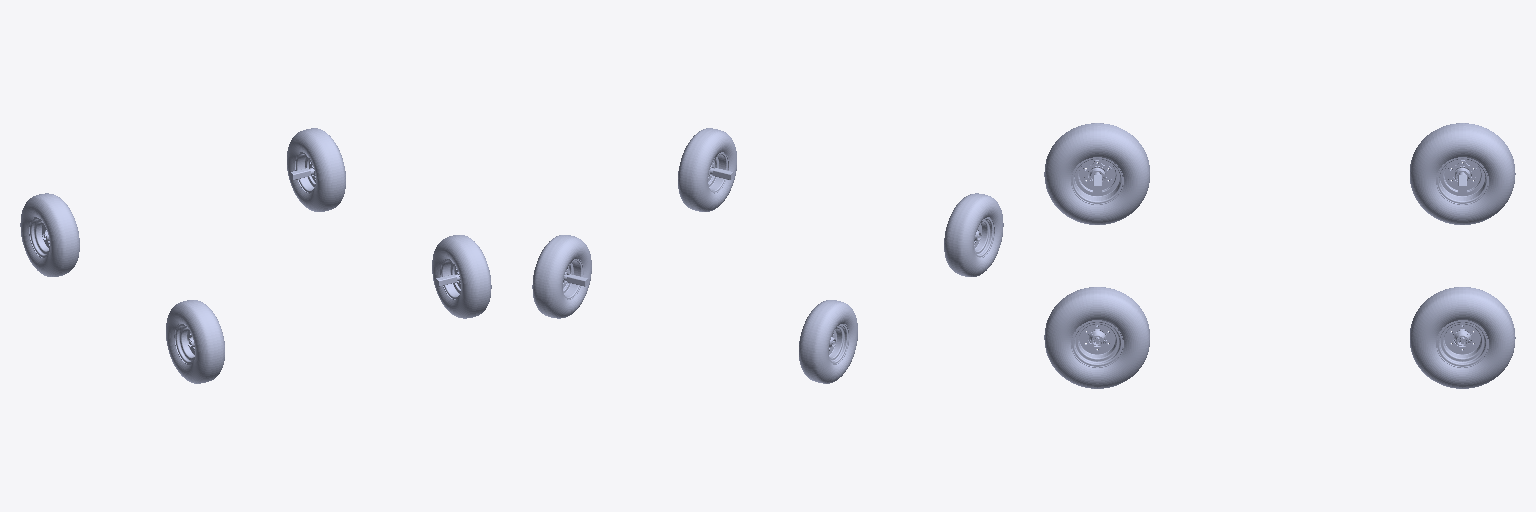
robot.urdf — corn_harvester:
<?xml version="1.0" encoding="utf-8"?>
<robot
  name="corn_harvester">

  <link name="base_footprint">
    <visual>
      <geometry>
          <sphere radius="0.001"/>
      </geometry>
    </visual>
  </link>

  <link
    name="base_link">
    <inertial>
      <origin
        xyz="0.0020787 0.45793 0.058"
        rpy="0 0 0" />
      <mass
        value="40068" />
      <inertia
        ixx="302500"
        ixy="-69.138"
        ixz="321.56"
        iyy="355850"
        iyz="-1374.3"
        izz="172590" />
    </inertial>
    <visual>
      <origin
        xyz="0 0 0"
        rpy="0 0 0" />
      <geometry>
        <mesh
          filename="package://sim01_urdf/meshes/base_link.STL" />
      </geometry>
      <material
        name="">
        <color
          rgba="0.79216 0.81961 0.93333 1" />
      </material>
    </visual>
    <collision>
      <origin
        xyz="0 0 0"
        rpy="0 0 0" />
      <geometry>
        <mesh
          filename="package://sim01_urdf/meshes/base_link.STL" />
      </geometry>
    </collision>
  </link>

  <joint name="base_joint" type="fixed">
    <parent link="base_footprint"/>
    <child link="base_link"/>
    <origin xyz="0.0 0.0 2.16"/>
  </joint>


  <link
    name="left_front_wheel_link0">
    <inertial>
      <origin
        xyz="-0.3271 0.14034 0.020054"
        rpy="0 0 0" />
      <mass
        value="950.62" />
      <inertia
        ixx="388.87"
        ixy="-2.1869E-09"
        ixz="0.001334"
        iyy="218.49"
        iyz="-1.5235E-09"
        izz="218.49" />
    </inertial>
    <visual>
      <origin
        xyz="0 0 0"
        rpy="0 0 0" />
      <geometry>
        <mesh
          filename="package://sim01_urdf/meshes/left_front_wheel_link0.STL" />
      </geometry>
      <material
        name="">
        <color
          rgba="0.79216 0.81961 0.93333 1" />
      </material>
    </visual>
    <collision>
      <origin
        xyz="0 0 0"
        rpy="0 0 0" />
      <geometry>
        <mesh
          filename="package://sim01_urdf/meshes/left_front_wheel_link0.STL" />
      </geometry>
    </collision>
  </link>
  <joint
    name="left_front_wheel_joint0"
    type="continuous">
    <origin
      xyz="2.767 -3.5054 -1.1624"
      rpy="-1.5708 0 3.1416" />
    <parent
      link="base_link" />
    <child
      link="left_front_wheel_link0" />
    <axis
      xyz="-1 0 0" />
  </joint>
  <link
    name="right_front_wheel_link1">
    <inertial>
      <origin
        xyz="-0.3271 0.14034 0.020054"
        rpy="0 0 0" />
      <mass
        value="950.62" />
      <inertia
        ixx="388.87"
        ixy="-2.1873E-09"
        ixz="0.001334"
        iyy="218.49"
        iyz="-1.5235E-09"
        izz="218.49" />
    </inertial>
    <visual>
      <origin
        xyz="0 0 0"
        rpy="0 0 0" />
      <geometry>
        <mesh
          filename="package://sim01_urdf/meshes/right_front_wheel_link1.STL" />
      </geometry>
      <material
        name="">
        <color
          rgba="0.79216 0.81961 0.93333 1" />
      </material>
    </visual>
    <collision>
      <origin
        xyz="0 0 0"
        rpy="0 0 0" />
      <geometry>
        <mesh
          filename="package://sim01_urdf/meshes/right_front_wheel_link1.STL" />
      </geometry>
    </collision>
  </link>
  <joint
    name="right_front_wheel_joint1"
    type="continuous">
    <origin
      xyz="-2.767 -3.5054 -1.4431"
      rpy="1.5708 0 0" />
    <parent
      link="base_link" />
    <child
      link="right_front_wheel_link1" />
    <axis
      xyz="1 0 0" />
  </joint>
  <link
    name="right_rear_wheel_link2">
    <inertial>
      <origin
        xyz="-0.3271 0.14034 0.020054"
        rpy="0 0 0" />
      <mass
        value="950.62" />
      <inertia
        ixx="388.87"
        ixy="-2.1873E-09"
        ixz="0.001334"
        iyy="218.49"
        iyz="-1.5235E-09"
        izz="218.49" />
    </inertial>
    <visual>
      <origin
        xyz="0 0 0"
        rpy="0 0 0" />
      <geometry>
        <mesh
          filename="package://sim01_urdf/meshes/right_rear_wheel_link2.STL" />
      </geometry>
      <material
        name="">
        <color
          rgba="0.79216 0.81961 0.93333 1" />
      </material>
    </visual>
    <collision>
      <origin
        xyz="0 0 0"
        rpy="0 0 0" />
      <geometry>
        <mesh
          filename="package://sim01_urdf/meshes/right_rear_wheel_link2.STL" />
      </geometry>
    </collision>
  </link>
  <joint
    name="right_rear_wheel_joint2"
    type="continuous">
    <origin
      xyz="-2.767 2.3546 -1.4431"
      rpy="1.5708 0 0" />
    <parent
      link="base_link" />
    <child
      link="right_rear_wheel_link2" />
    <axis
      xyz="1 0 0" />
  </joint>
  <link
    name="left_rear_wheel_link3">
    <inertial>
      <origin
        xyz="-0.3271 0.14034 0.020054"
        rpy="0 0 0" />
      <mass
        value="950.62" />
      <inertia
        ixx="388.87"
        ixy="-2.1869E-09"
        ixz="0.001334"
        iyy="218.49"
        iyz="-1.5235E-09"
        izz="218.49" />
    </inertial>
    <visual>
      <origin
        xyz="0 0 0"
        rpy="0 0 0" />
      <geometry>
        <mesh
          filename="package://sim01_urdf/meshes/left_rear_wheel_link3.STL" />
      </geometry>
      <material
        name="">
        <color
          rgba="0.79216 0.81961 0.93333 1" />
      </material>
    </visual>
    <collision>
      <origin
        xyz="0 0 0"
        rpy="0 0 0" />
      <geometry>
        <mesh
          filename="package://sim01_urdf/meshes/left_rear_wheel_link3.STL" />
      </geometry>
    </collision>
  </link>
  <joint
    name="left_rear_wheel_joint3"
    type="continuous">
    <origin
      xyz="2.767 2.3546 -1.1624"
      rpy="-1.5708 0 3.1416" />
    <parent
      link="base_link" />
    <child
      link="left_rear_wheel_link3" />
    <axis
      xyz="-1 0 0" />
  </joint>
  <link
    name="laser_link">
    <inertial>
      <origin
        xyz="-0.00098912 -0.21034 -0.0064035"
        rpy="0 0 0" />
      <mass
        value="141.89" />
      <inertia
        ixx="4.3307"
        ixy="-0.014198"
        ixz="-0.1636"
        iyy="6.8801"
        iyz="-0.022421"
        izz="4.3567" />
    </inertial>
    <visual>
      <origin
        xyz="0 0 0"
        rpy="0 0 0" />
      <geometry>
        <mesh
          filename="package://sim01_urdf/meshes/laser_link.STL" />
      </geometry>
      <material
        name="">
        <color
          rgba="0.79216 0.81961 0.93333 1" />
      </material>
    </visual>
    <collision>
      <origin
        xyz="0 0 0"
        rpy="0 0 0" />
      <geometry>
        <mesh
          filename="package://sim01_urdf/meshes/laser_link.STL" />
      </geometry>
    </collision>
  </link>
  <joint
    name="laser_joint"
    type="fixed">
    <origin
      xyz="0.005493 -2.8923 3.7226"
      rpy="1.5718 -0.0036179 2.3184" />
    <parent
      link="base_link" />
    <child
      link="laser_link" />
    <axis
      xyz="0 0 0" />
  </joint>
</robot>

--- Render facts (derived) ---
Views: 3 orthographic renders of the robot side by side, from view 1: azimuth 30°, elevation 25°; view 2: azimuth 150°, elevation 25°; view 3: azimuth 270°, elevation 25°.
Robot: corn_harvester — 7 links, 6 joints (4 continuous, 2 fixed); root link base_footprint; default pose: all joints at 0.
Links seen in each view (by area): view 1: right_front_wheel_link1, left_rear_wheel_link3, left_front_wheel_link0, right_rear_wheel_link2; view 2: left_front_wheel_link0, right_rear_wheel_link2, right_front_wheel_link1, left_rear_wheel_link3; view 3: left_front_wheel_link0, right_front_wheel_link1, right_rear_wheel_link2, left_rear_wheel_link3.
Boxes of the visible links, x1,y1,x2,y2 form: right_front_wheel_link1: [166, 300, 224, 383]; left_rear_wheel_link3: [287, 128, 345, 211]; left_front_wheel_link0: [432, 235, 491, 318]; right_rear_wheel_link2: [20, 193, 79, 276]; left_front_wheel_link0: [678, 128, 736, 211]; right_rear_wheel_link2: [799, 300, 857, 383]; right_front_wheel_link1: [944, 193, 1003, 276]; left_rear_wheel_link3: [532, 235, 591, 318]; left_front_wheel_link0: [1044, 287, 1149, 388]; right_front_wheel_link1: [1044, 123, 1149, 224]; right_rear_wheel_link2: [1410, 123, 1515, 224]; left_rear_wheel_link3: [1410, 287, 1515, 388].
Size in the robot's own frame: 6.81 by 7.56 by 1.71 metres.
4 mesh visuals loaded from 6 distinct referenced files (4 binary STL); not drawn: 2 (reference not matched to a file when rendering).